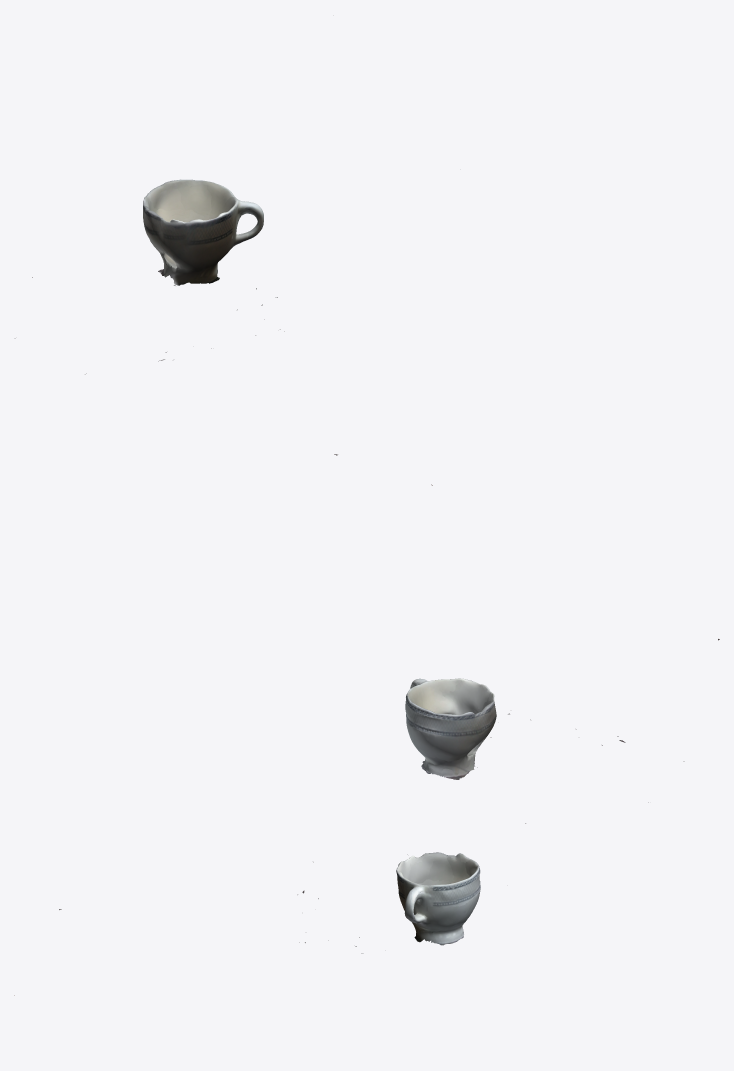
The picture shows the model from 3 angles, top to bottom: view 1: azimuth 30°, elevation 25°; view 2: azimuth 150°, elevation 25°; view 3: azimuth 270°, elevation 25°; orthographic projection. The views are drawn at different scales.
Parts seen in each view (by area): view 1: Mesh_0; view 2: Mesh_0; view 3: Mesh_0.
Boxes of the visible parts, left/top/right/bottom form: Mesh_0: left=14, top=179, right=337, bottom=455; Mesh_0: left=405, top=484, right=719, bottom=823; Mesh_0: left=14, top=852, right=480, bottom=995.
Bounding box in the file's own units: 2.19 × 0.3477 × 3.07.
1 material, 1 textured.
